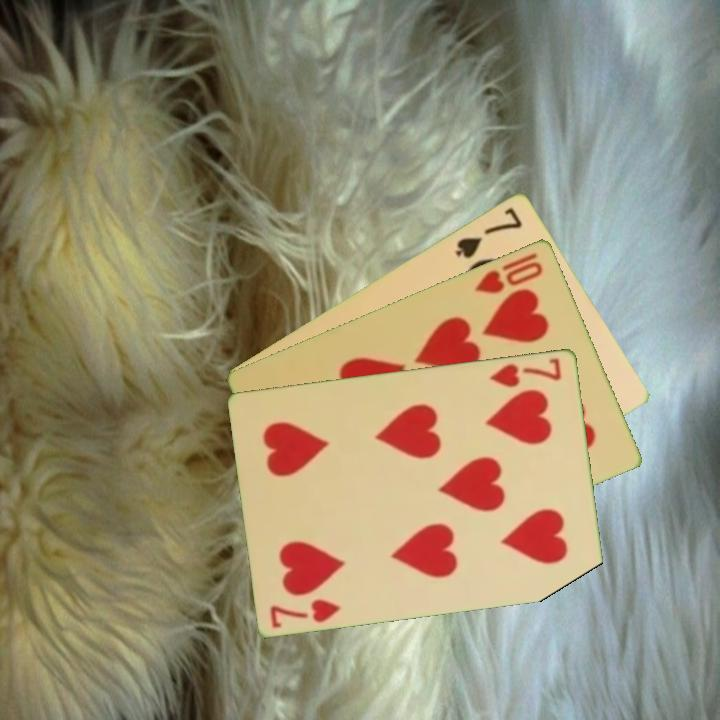10h: (471, 257, 546, 296)
7h: (487, 354, 565, 390), (267, 595, 344, 631)
7s: (451, 203, 525, 261)
